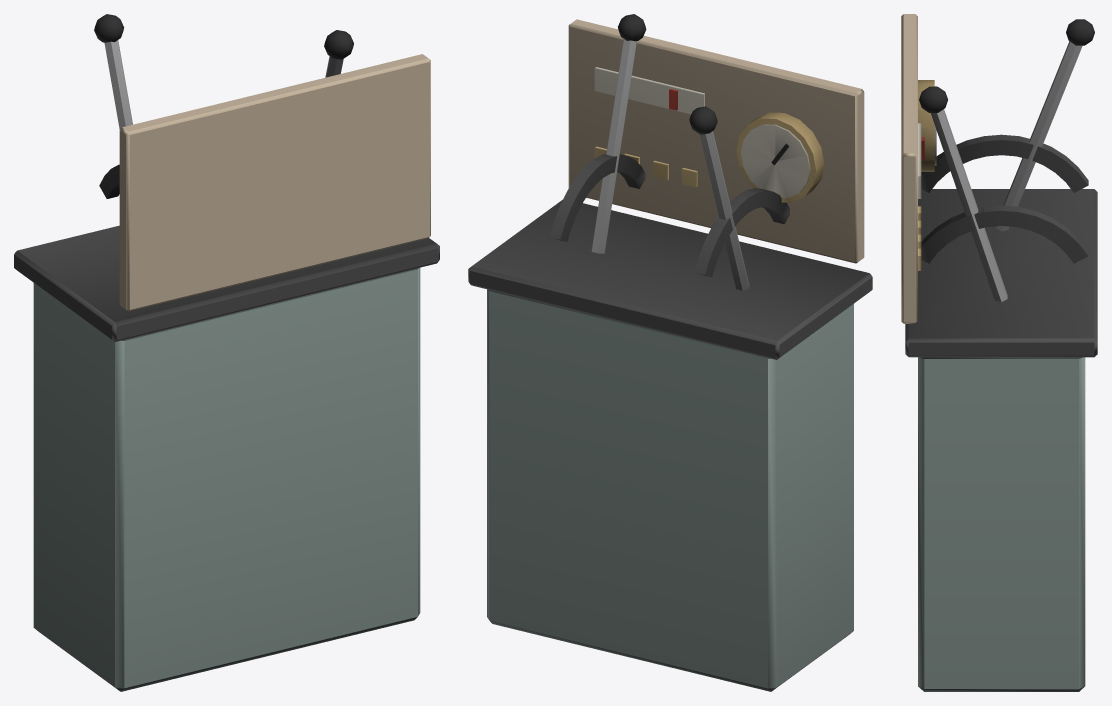
File: control_stand.glb
The picture shows the model from 3 angles, left to right: view 1: azimuth 30°, elevation 25°; view 2: azimuth 150°, elevation 25°; view 3: azimuth 270°, elevation 25°; orthographic projection. The views are drawn at different scales.
Visible parts, largest first — view 1: static; view 2: static; view 3: static.
Part boxes in pixels (box(x1,y1,x2,y2)): static: box(14, 14, 439, 691); static: box(468, 14, 872, 691); static: box(901, 14, 1097, 691).
Bounding box in the file's own units: 0.86 × 1.51 × 0.47.
